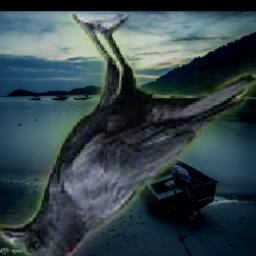Crow: (0, 14, 256, 256)
